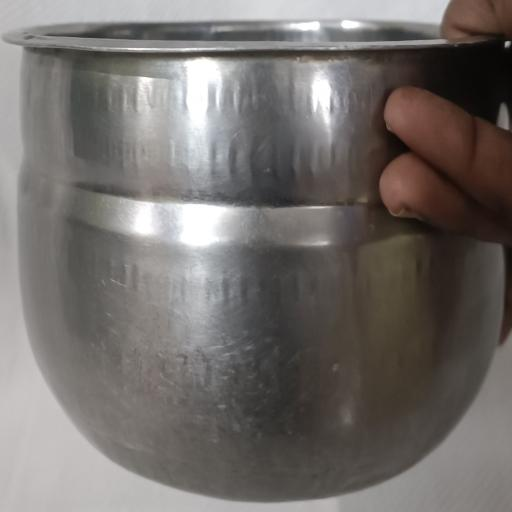vessel: (6, 21, 503, 500)
